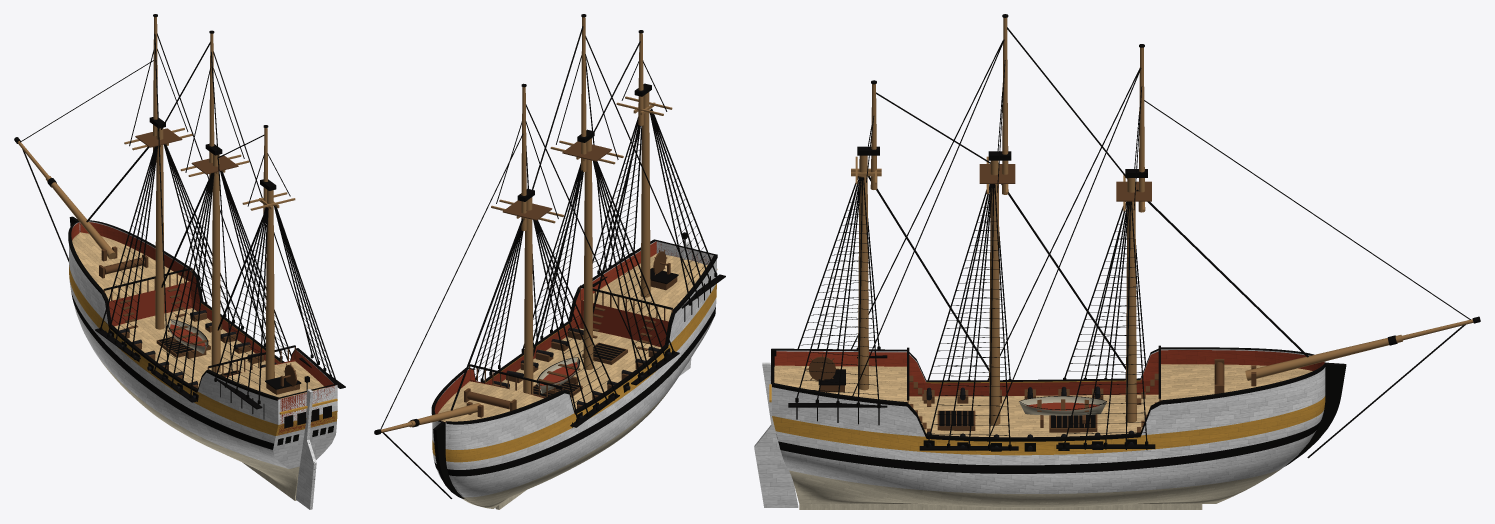
The model's file is navy_sloop.glb.
The picture shows the model from 3 angles, left to right: view 1: azimuth 30°, elevation 25°; view 2: azimuth 150°, elevation 25°; view 3: azimuth 270°, elevation 25°; orthographic projection. The views are drawn at different scales.
Parts seen in each view (by area): view 1: hull; view 2: hull; view 3: hull.
Boxes of the visible parts, x1=… form: hull: x1=14, y1=14, x2=345, y2=509; hull: x1=374, y1=14, x2=725, y2=509; hull: x1=754, y1=14, x2=1480, y2=509.
Size of the model in its own units: 8.11 by 27.9 by 37.22.
Materials: 9 (5 with a texture image).
